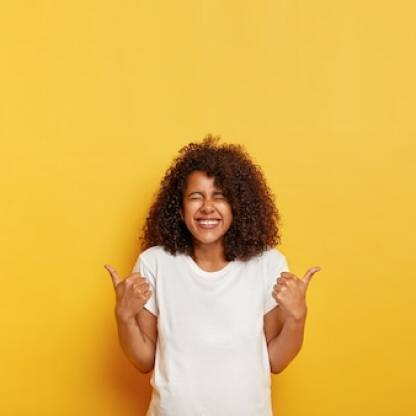thumb_up: (101, 261, 155, 314), (268, 261, 323, 313)
